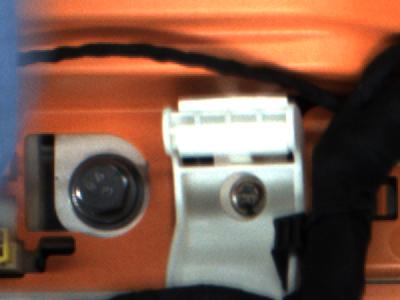nut_b: (67, 151, 139, 228)
